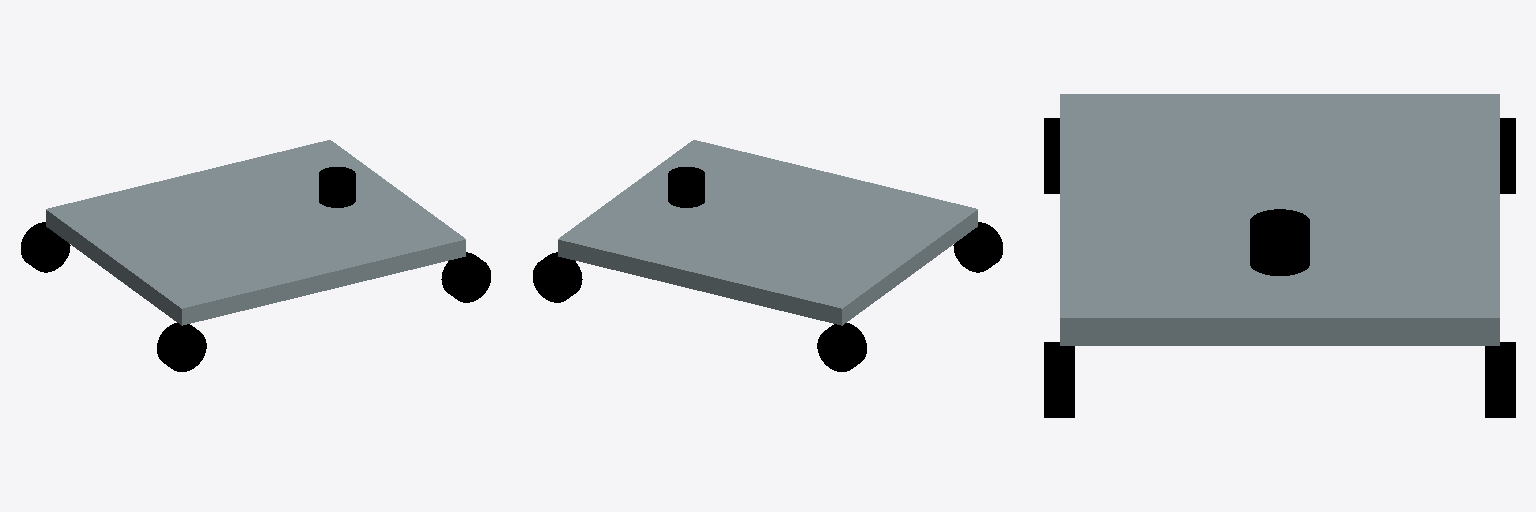
robot.urdf — small_car:
<?xml version="1.0" ?>
<!-- =================================================================================== -->
<!-- |    This document was autogenerated by xacro from car_with_sensor.xacro          | -->
<!-- |    EDITING THIS FILE BY HAND IS NOT RECOMMENDED                                 | -->
<!-- =================================================================================== -->
<!-- <?xml version="1.0"?>
<robot xmlns:xacro="http://www.ros.org/wiki/xacro" name="Fan"> -->
<!--  -->
<robot name="small_car">
  <material name="green">
    <color rgba="0 0.5 0.2 1"/>
  </material>
  <material name="black">
    <color rgba="0 0 0 1"/>
  </material>
  <material name="white">
    <color rgba="1 1 1 1"/>
  </material>
  <material name="grey">
    <color rgba="0.5843137254901961 0.6392156862745098 0.6509803921568628 1"/>
  </material>
  <link name="base_link">
    <visual>
      <geometry>
        <box size="0.35 0.29 0.02"/>
      </geometry>
      <origin rpy="0 0 0" xyz="0 0 0"/>
      <material name="grey"/>
    </visual>
    <collision>
      <geometry>
        <box size="0.35 0.29 0.02"/>
      </geometry>
      <origin rpy="0 0 0" xyz="0 0 0"/>
    </collision>
    <inertial>
      <mass value="0.5"/>
      <!-- box inertia -->
      <inertia ixx="0.005120833333333332" ixy="0.0" ixz="0.0" iyy="0.003520833333333333" iyz="0.0" izz="0.008608333333333332"/>
    </inertial>
  </link>
  <link name="right_front_steering_wheel">
    <inertial>
      <mass value="0.1"/>
      <inertia ixx="1.8958333333333338e-05" ixy="0.0" ixz="0.0" iyy="1.8958333333333338e-05" iyz="0.0" izz="3.125000000000001e-05"/>
    </inertial>
  </link>
  <!-- steering wheel -->
  <joint name="right_front_steering_wheel_joint" type="revolute">
    <axis rpy="0 0 0" xyz="0 0 1"/>
    <parent link="base_link"/>
    <child link="right_front_steering_wheel"/>
    <origin rpy="0 0 0" xyz="0.175 -0.145 -0.035"/>
  </joint>
  <link name="left_front_steering_wheel">
    <inertial>
      <mass value="0.1"/>
      <inertia ixx="1.8958333333333338e-05" ixy="0.0" ixz="0.0" iyy="1.8958333333333338e-05" iyz="0.0" izz="3.125000000000001e-05"/>
    </inertial>
  </link>
  <!-- steering wheel -->
  <joint name="left_front_steering_wheel_joint" type="revolute">
    <axis rpy="0 0 0" xyz="0 0 1"/>
    <parent link="base_link"/>
    <child link="left_front_steering_wheel"/>
    <origin rpy="0 0 0" xyz="0.175 0.145 -0.035"/>
  </joint>
  <link name="right_front_forward_wheel">
    <visual>
      <origin rpy="1.5707963267948966 0 0" xyz="0 0 0"/>
      <geometry>
        <cylinder length="0.02" radius="0.025"/>
      </geometry>
      <material name="black"/>
    </visual>
    <collision>
      <origin rpy="1.5707963267948966 0 0" xyz="0 0 0"/>
      <geometry>
        <cylinder length="0.02" radius="0.025"/>
      </geometry>
    </collision>
    <inertial>
      <mass value="0.1"/>
      <!-- cylinder inertia -->
      <inertia ixx="1.8958333333333338e-05" ixy="0.0" ixz="0.0" iyy="1.8958333333333338e-05" iyz="0.0" izz="3.125000000000001e-05"/>
    </inertial>
  </link>
  <!-- move forward wheel -->
  <joint name="right_front_forward_wheel_joint" type="continuous">
    <axis rpy="0 0 0" xyz="0 1 0"/>
    <parent link="right_front_steering_wheel"/>
    <child link="right_front_forward_wheel"/>
    <origin rpy="0 0 0" xyz="0.0 -0.0 -0.0"/>
  </joint>
  <link name="left_front_forward_wheel">
    <visual>
      <origin rpy="1.5707963267948966 0 0" xyz="0 0 0"/>
      <geometry>
        <cylinder length="0.02" radius="0.025"/>
      </geometry>
      <material name="black"/>
    </visual>
    <collision>
      <origin rpy="1.5707963267948966 0 0" xyz="0 0 0"/>
      <geometry>
        <cylinder length="0.02" radius="0.025"/>
      </geometry>
    </collision>
    <inertial>
      <mass value="0.1"/>
      <!-- cylinder inertia -->
      <inertia ixx="1.8958333333333338e-05" ixy="0.0" ixz="0.0" iyy="1.8958333333333338e-05" iyz="0.0" izz="3.125000000000001e-05"/>
    </inertial>
  </link>
  <!-- move forward wheel -->
  <joint name="left_front_forward_wheel_joint" type="continuous">
    <axis rpy="0 0 0" xyz="0 1 0"/>
    <parent link="left_front_steering_wheel"/>
    <child link="left_front_forward_wheel"/>
    <origin rpy="0 0 0" xyz="0.0 0.0 -0.0"/>
  </joint>
  <link name="right_back_forward_wheel">
    <visual>
      <origin rpy="1.5707963267948966 0 0" xyz="0 0 0"/>
      <geometry>
        <cylinder length="0.02" radius="0.025"/>
      </geometry>
      <material name="black"/>
    </visual>
    <collision>
      <origin rpy="1.5707963267948966 0 0" xyz="0 0 0"/>
      <geometry>
        <cylinder length="0.02" radius="0.025"/>
      </geometry>
    </collision>
    <inertial>
      <mass value="0.1"/>
      <!-- cylinder inertia -->
      <inertia ixx="1.8958333333333338e-05" ixy="0.0" ixz="0.0" iyy="1.8958333333333338e-05" iyz="0.0" izz="3.125000000000001e-05"/>
    </inertial>
  </link>
  <!-- move forward wheel -->
  <joint name="right_back_forward_wheel_joint" type="continuous">
    <axis rpy="0 0 0" xyz="0 1 0"/>
    <parent link="base_link"/>
    <child link="right_back_forward_wheel"/>
    <origin rpy="0 0 0" xyz="-0.175 -0.145 -0.035"/>
  </joint>
  <link name="left_back_forward_wheel">
    <visual>
      <origin rpy="1.5707963267948966 0 0" xyz="0 0 0"/>
      <geometry>
        <cylinder length="0.02" radius="0.025"/>
      </geometry>
      <material name="black"/>
    </visual>
    <collision>
      <origin rpy="1.5707963267948966 0 0" xyz="0 0 0"/>
      <geometry>
        <cylinder length="0.02" radius="0.025"/>
      </geometry>
    </collision>
    <inertial>
      <mass value="0.1"/>
      <!-- cylinder inertia -->
      <inertia ixx="1.8958333333333338e-05" ixy="0.0" ixz="0.0" iyy="1.8958333333333338e-05" iyz="0.0" izz="3.125000000000001e-05"/>
    </inertial>
  </link>
  <!-- move forward wheel -->
  <joint name="left_back_forward_wheel_joint" type="continuous">
    <axis rpy="0 0 0" xyz="0 1 0"/>
    <parent link="base_link"/>
    <child link="left_back_forward_wheel"/>
    <origin rpy="0 0 0" xyz="-0.175 0.145 -0.035"/>
  </joint>
  <link name="lidar">
    <visual>
      <origin rpy="0 0 0" xyz="0 0 0"/>
      <geometry>
        <cylinder length="0.03" radius="0.02"/>
      </geometry>
      <material name="black"/>
    </visual>
    <collision>
      <origin rpy="0 0 0" xyz="0 0 0"/>
      <geometry>
        <cylinder length="0.03" radius="0.02"/>
      </geometry>
    </collision>
    <inertial>
      <mass value="0.2"/>
      <origin xyz="0 0 0"/>
      <inertia ixx="0.001" ixy="0.0" ixz="0.0" iyy="0.001" iyz="0.0" izz="0.001"/>
    </inertial>
  </link>
  <joint name="scan_joint" type="fixed">
    <parent link="base_link"/>
    <child link="lidar"/>
    <origin rpy="0 0 0" xyz="0.1 0 0.03"/>
  </joint>
</robot>

--- What the picture shows (computed from the rendered views, not written in the file) ---
3 views of the same robot in one strip: view 1: azimuth 30°, elevation 25°; view 2: azimuth 150°, elevation 25°; view 3: azimuth 270°, elevation 25° (orthographic).
Robot: small_car — 8 links, 7 joints (2 revolute, 4 continuous, 1 fixed); root link base_link; default pose: all joints at 0.
Visible links, largest first — view 1: base_link, right_back_forward_wheel, right_front_forward_wheel, left_back_forward_wheel, lidar; view 2: base_link, left_back_forward_wheel, left_front_forward_wheel, right_back_forward_wheel, lidar; view 3: base_link, lidar, right_front_forward_wheel, left_front_forward_wheel, right_back_forward_wheel, left_back_forward_wheel.
Link boxes in pixels (x1,y1,x2,y2): base_link: [46, 140, 465, 325]; right_back_forward_wheel: [157, 323, 206, 371]; right_front_forward_wheel: [441, 252, 490, 302]; left_back_forward_wheel: [21, 222, 70, 272]; lidar: [319, 167, 355, 207]; base_link: [558, 140, 977, 325]; left_back_forward_wheel: [817, 323, 866, 371]; left_front_forward_wheel: [533, 252, 582, 302]; right_back_forward_wheel: [953, 222, 1002, 272]; lidar: [668, 167, 704, 207]; base_link: [1060, 94, 1499, 345]; lidar: [1250, 209, 1309, 275]; right_front_forward_wheel: [1044, 342, 1074, 417]; left_front_forward_wheel: [1485, 342, 1515, 417]; right_back_forward_wheel: [1044, 118, 1059, 193]; left_back_forward_wheel: [1500, 118, 1515, 193].
Size in the robot's own frame: 0.4 by 0.31 by 0.105 metres.
Geometry: primitives only (box / cylinder / sphere), no mesh files.
